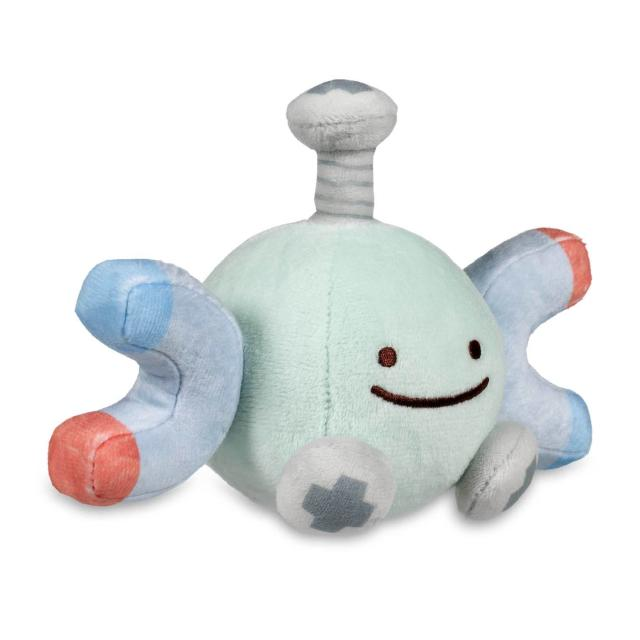Magnemite: (40, 107, 595, 537)
